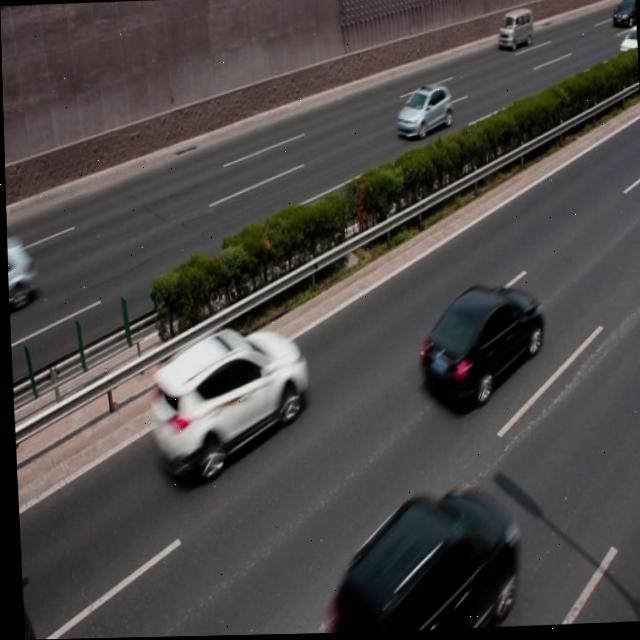car: (140, 325, 306, 488), (329, 491, 512, 634), (413, 283, 543, 411), (394, 84, 451, 140), (615, 26, 638, 66), (609, 0, 636, 29)
truck: (495, 9, 532, 51)
